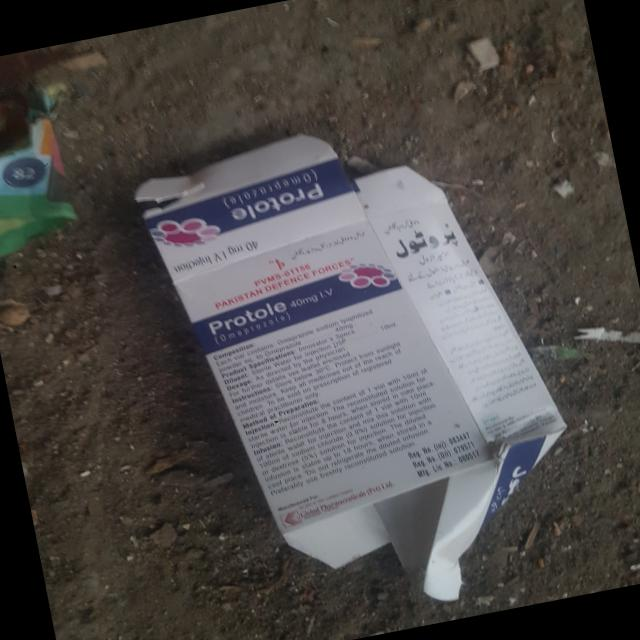electronic: (129, 94, 597, 640)
